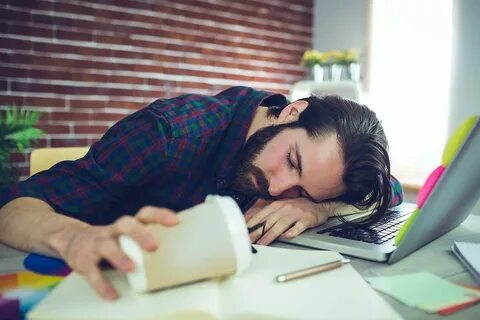sleep: (1, 83, 393, 257)
